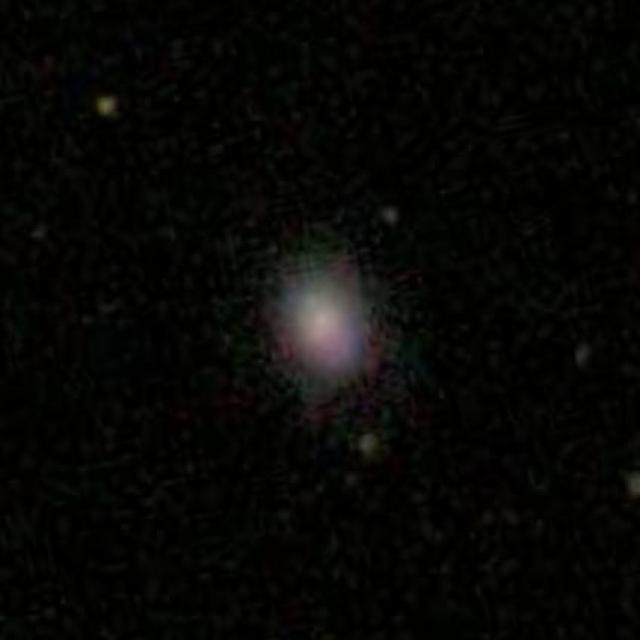galaxy: (263, 238, 392, 414), (354, 428, 386, 462), (380, 201, 404, 233), (94, 93, 119, 121)
